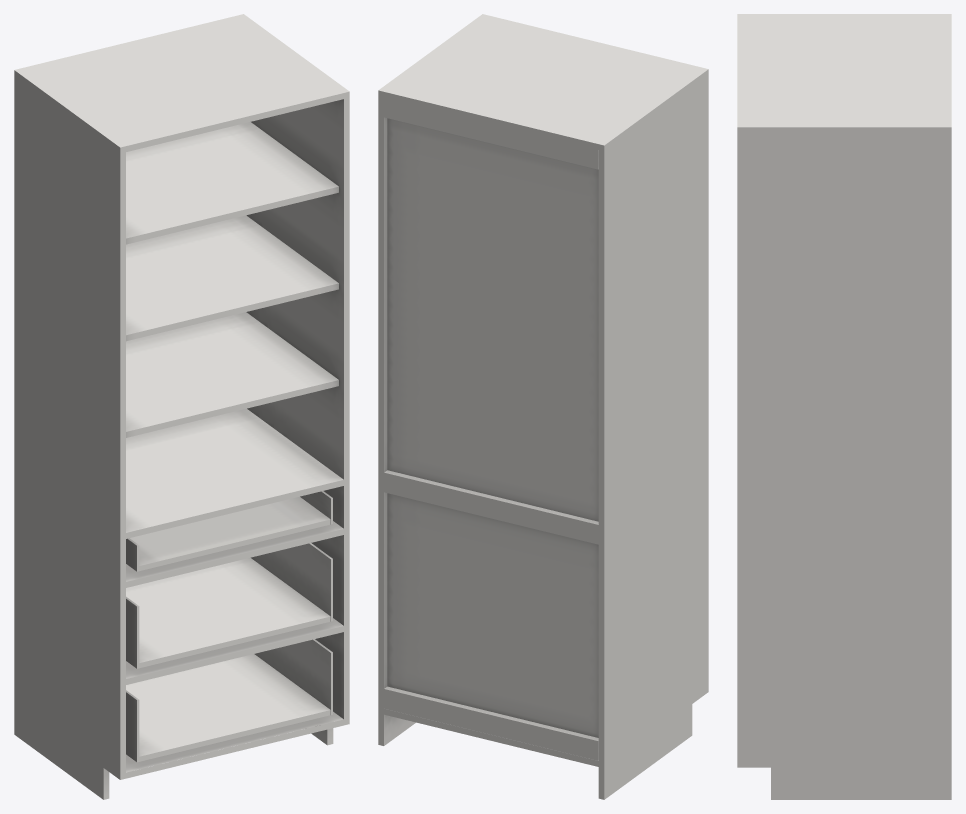
File: tall-2-door-3-drawer-doors-off.glb
3 renders of one model, left to right at view 1: azimuth 30°, elevation 25°; view 2: azimuth 150°, elevation 25°; view 3: azimuth 270°, elevation 25°, orthographic. The views are drawn at different scales.
Parts seen in each view (by area): view 1: part_0, part_12; view 2: part_0; view 3: part_0.
Boxes of the visible parts, bbox=[...] form: part_0: bbox=[14, 14, 349, 799]; part_12: bbox=[126, 491, 332, 762]; part_0: bbox=[378, 14, 708, 799]; part_0: bbox=[737, 14, 951, 799].
Size of the model in its own units: 0.7621 by 2.11 by 0.6097.
2 materials, 1 textured.
